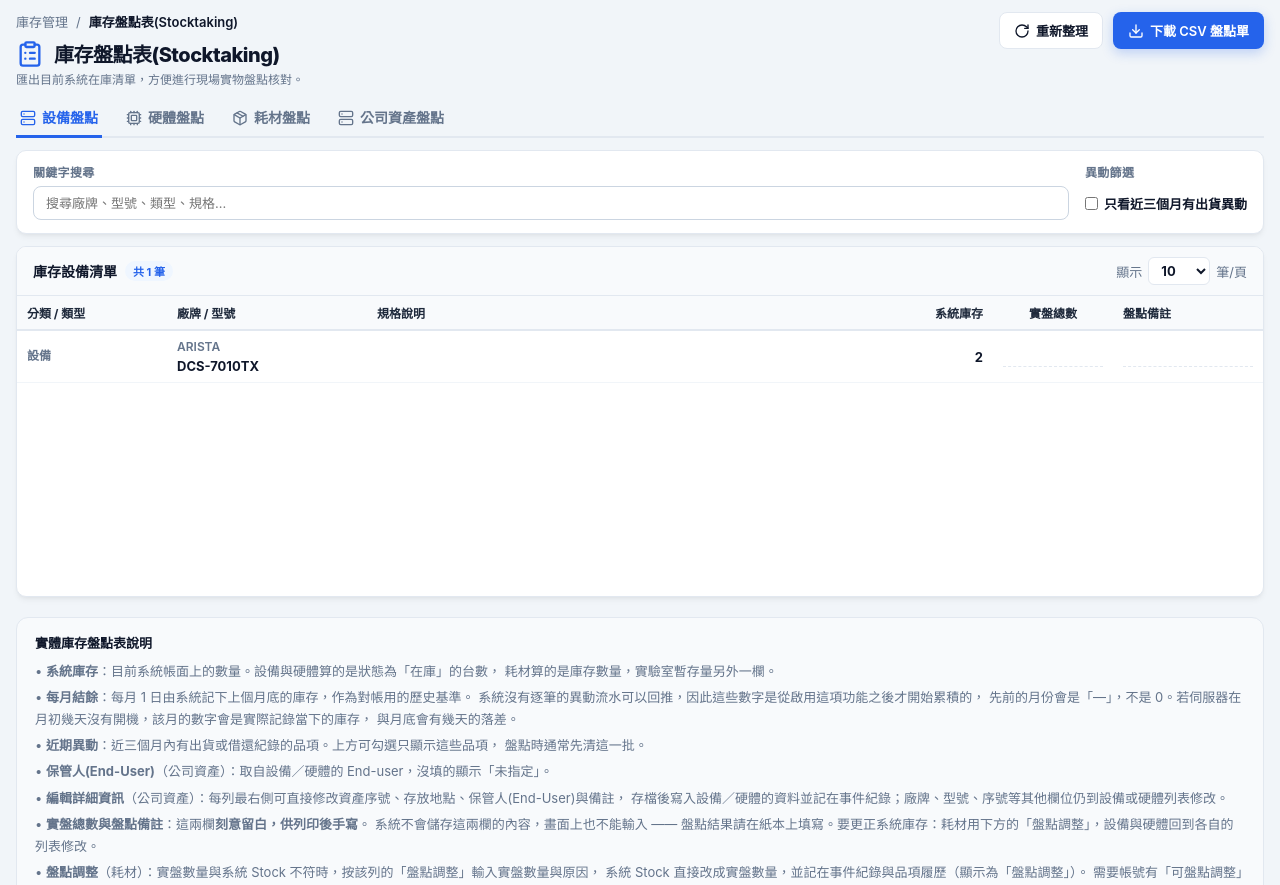
Test: 公司資產盤點：編輯詳細資訊 › 視窗帶出目前的值，廠牌型號序號只讀
Click the text "公司資產盤點".
click(391, 118)  # box 338,109 -> 444,126
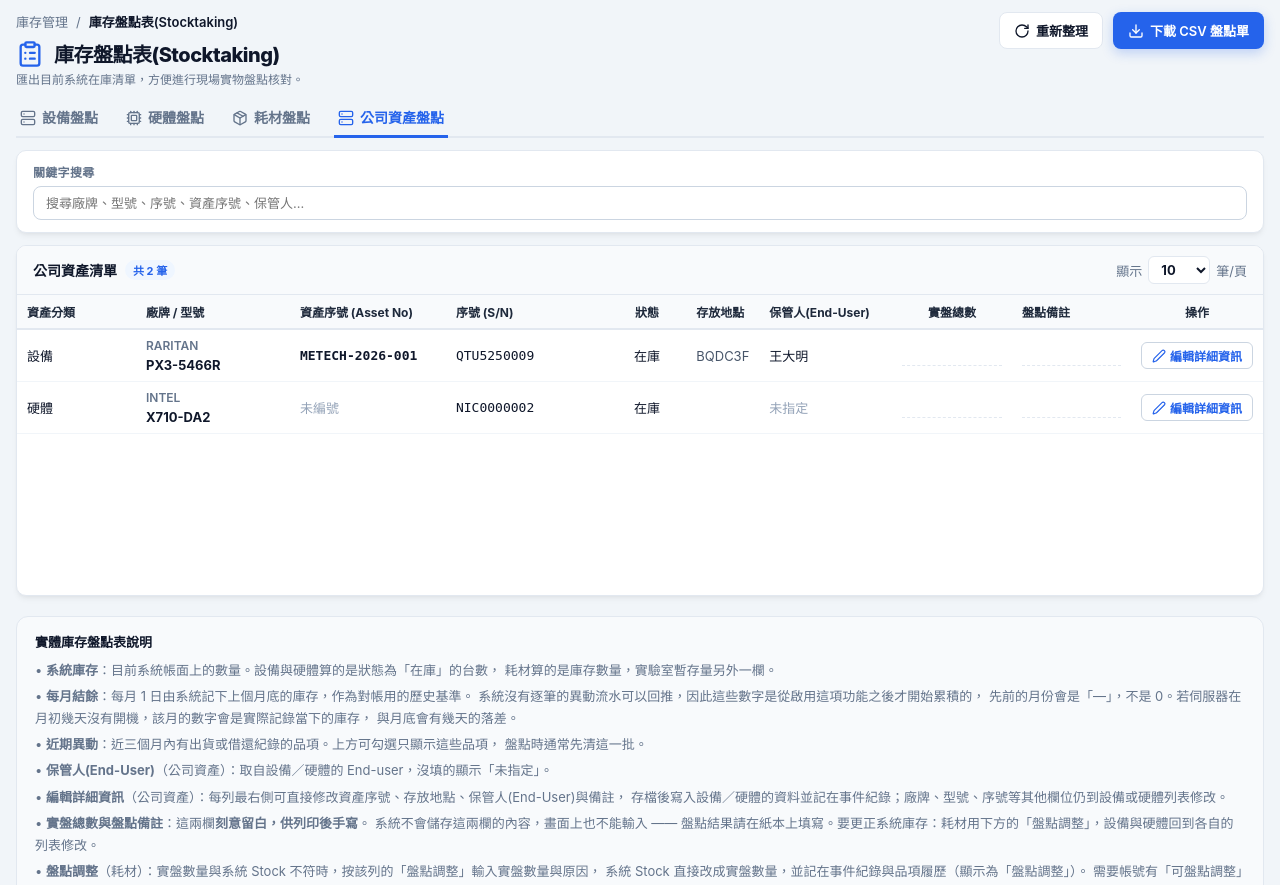
Expected: the text "QTU5250009" is shown, 446,329 -> 608,382
Click the button "編輯詳細資訊" in the row of "RARITAN".
click(1197, 356)  # box 1141,342 -> 1253,369
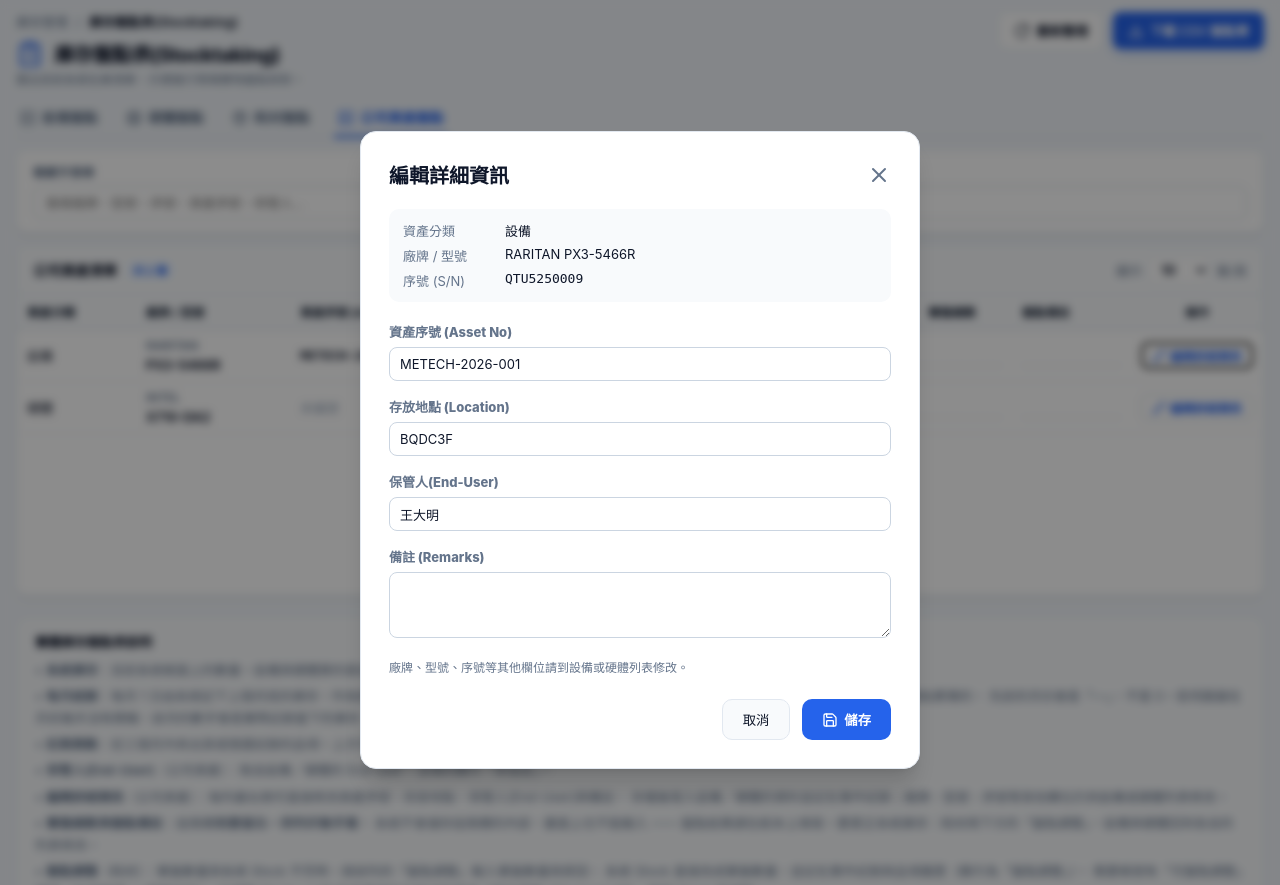
Expected: the field labelled "資產序號 (Asset No)" holds "METECH-2026-001", 389,347 -> 891,381
Expected: the field labelled "存放地點 (Location)" holds "BQDC3F", 389,422 -> 891,456
Expected: the field labelled "保管人(End-User)" holds "王大明", 389,497 -> 891,531
